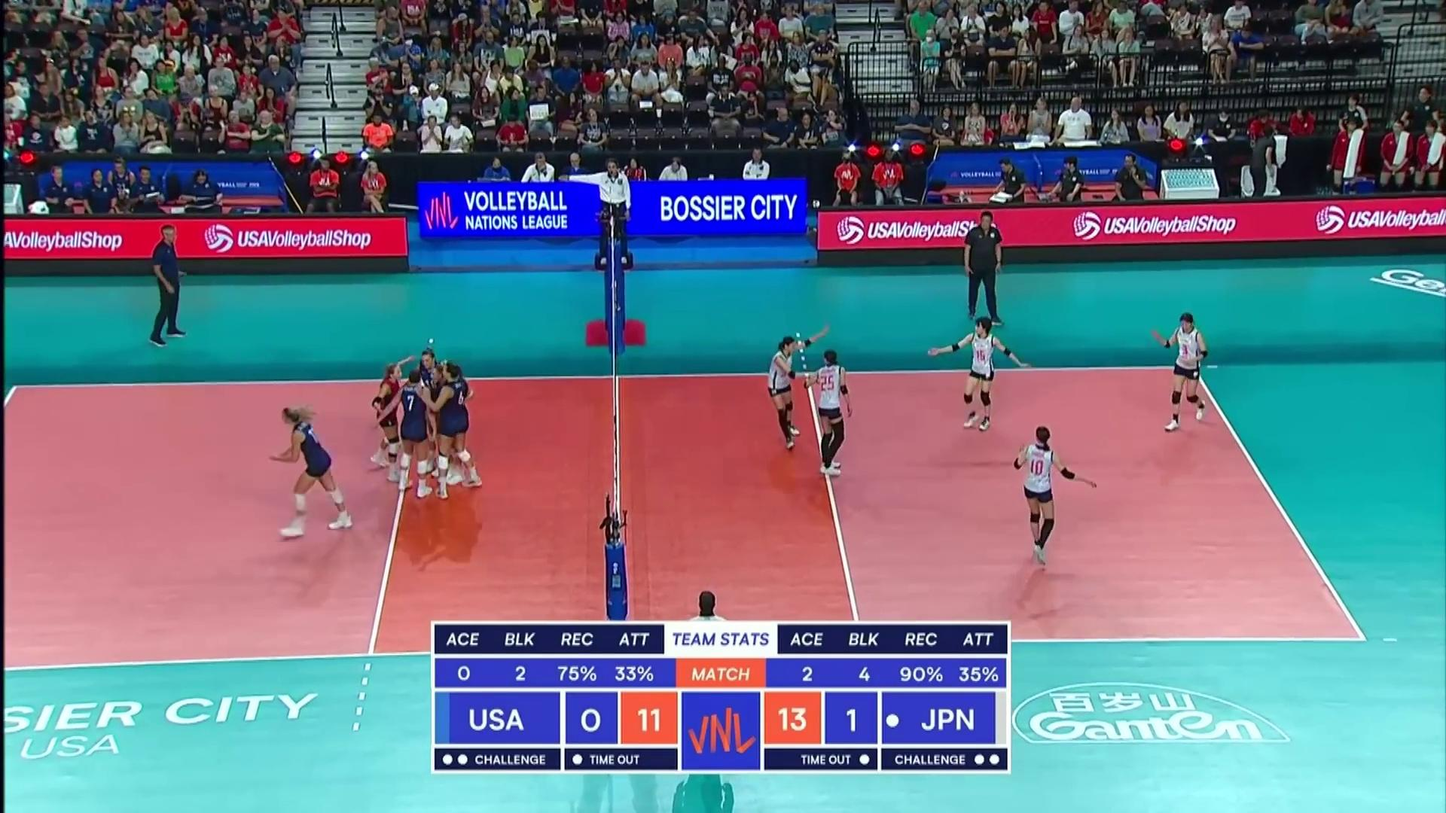player: (1016, 429, 1102, 568), (270, 406, 353, 534), (941, 319, 1027, 430), (1153, 316, 1215, 432), (807, 344, 853, 478), (765, 337, 811, 452), (439, 369, 477, 488), (397, 368, 429, 498), (377, 359, 405, 486), (416, 350, 444, 471), (430, 367, 459, 477)
refree: (678, 591, 733, 724), (586, 155, 630, 265)
